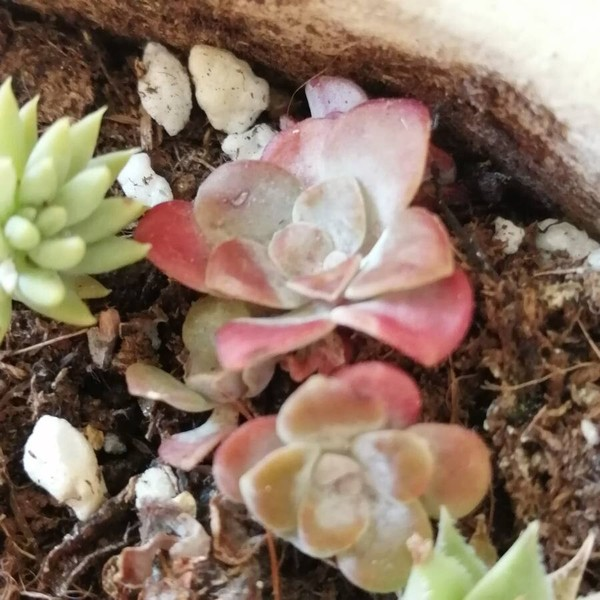obstacle: (10, 55, 518, 576)
